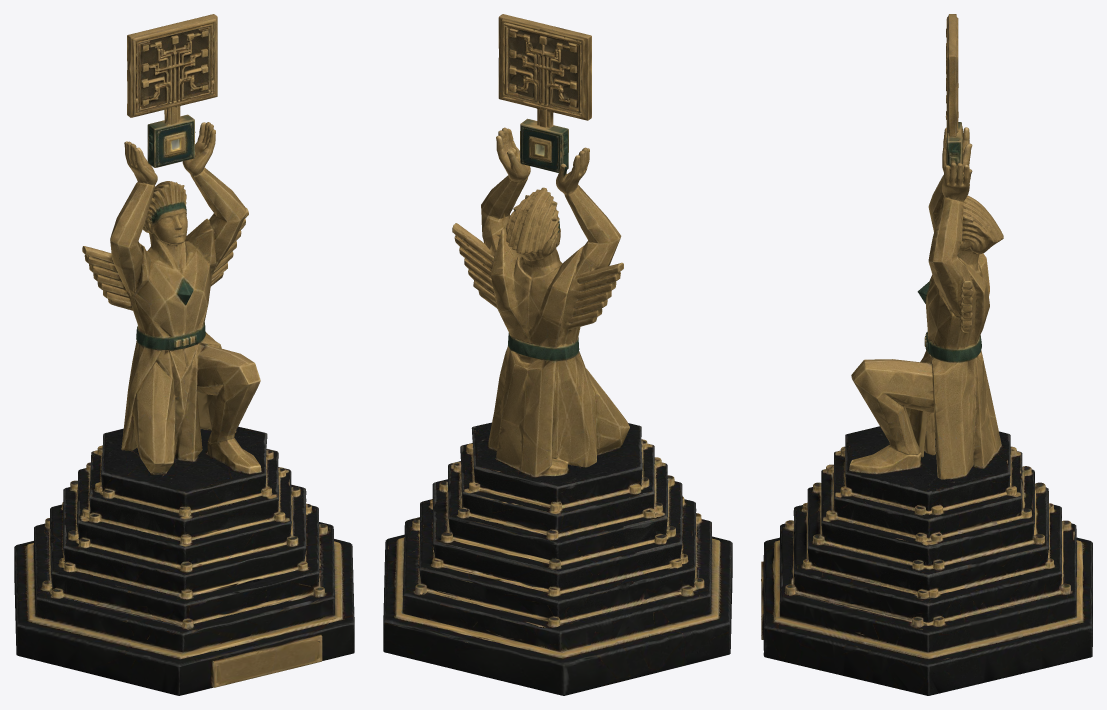
Rendered from innovation.glb.
3 renders of one model, left to right at view 1: azimuth 30°, elevation 25°; view 2: azimuth 150°, elevation 25°; view 3: azimuth 270°, elevation 25°, orthographic. The views are drawn at different scales.
Parts seen in each view (by area): view 1: Mesh_0.001; view 2: Mesh_0.001; view 3: Mesh_0.001.
Part boxes in pixels (bbox=[...]): Mesh_0.001: bbox=[14, 14, 354, 695]; Mesh_0.001: bbox=[383, 14, 732, 695]; Mesh_0.001: bbox=[761, 14, 1092, 695].
Bounding box in the file's own units: 7.27 × 12 × 6.22.
Materials: 1 (1 with a texture image).
